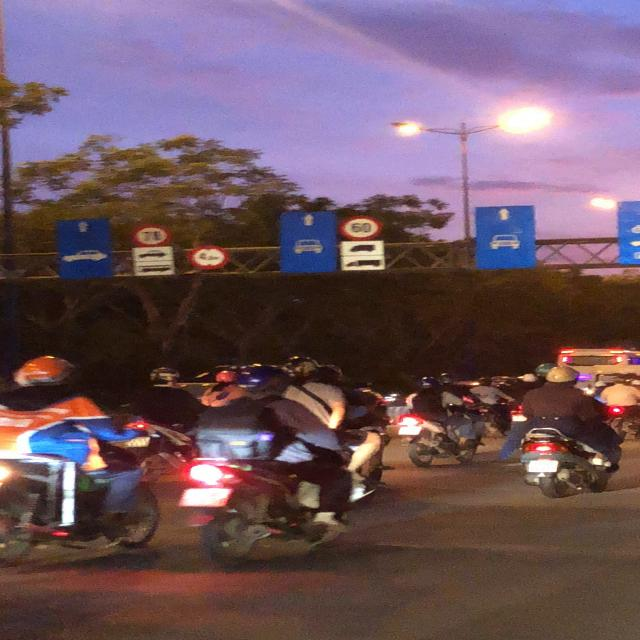Bien bao han che chieu cao: (187, 243, 228, 270)
Bien bao toc do toi da cho phep: (332, 214, 386, 243), (129, 223, 173, 246)
